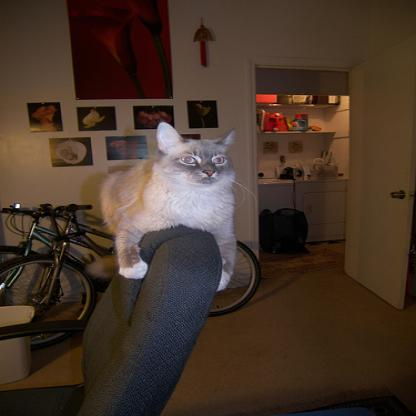bicycle: (0, 202, 258, 343), (1, 203, 113, 315)
cat: (98, 119, 238, 291)
chair: (0, 224, 224, 415)
